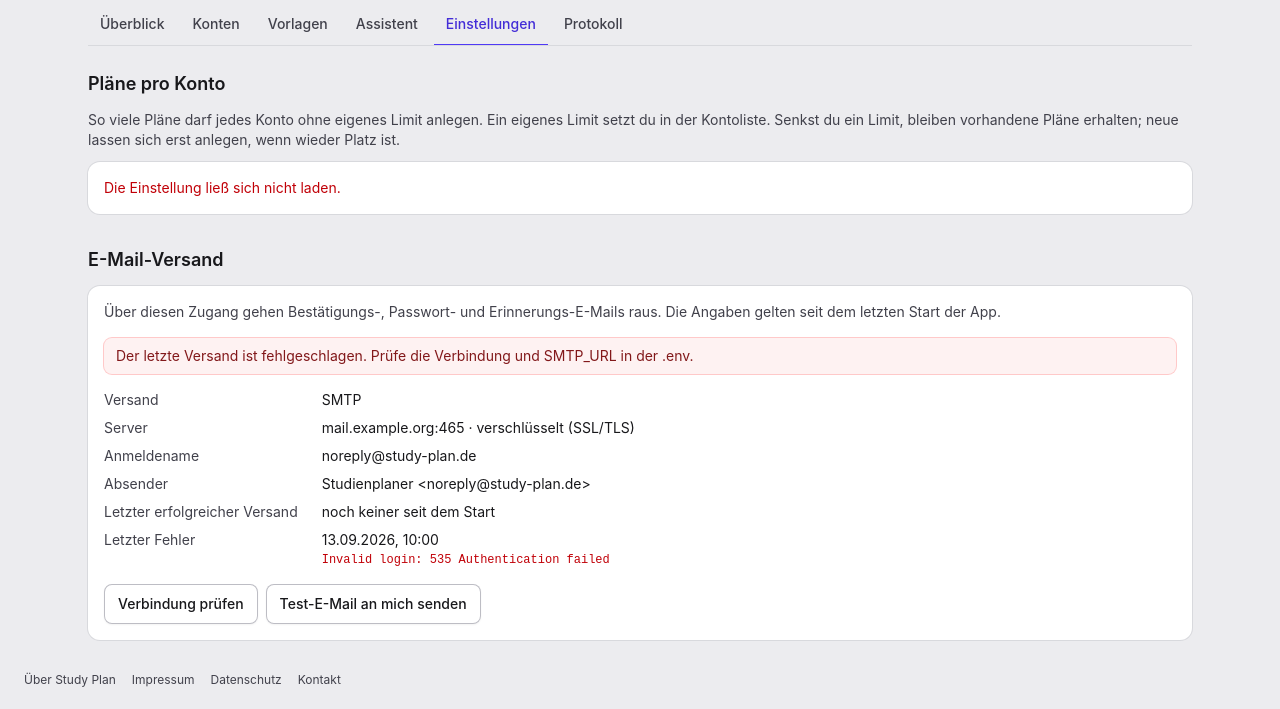
Test: mail delivery in the admin dashboard › shows the last failure, checks the connection and sends a test e-mail
The width and height of the screenshot is (1280, 709).
(page scrolled)
Check: the text "mail.example.org:465 · verschlüsselt (SSL/TLS)" is shown, box [322, 419, 635, 436]
Check: the text "Der letzte Versand ist fehlgeschlagen" is shown, box [116, 347, 694, 364]
Click the button "Verbindung prüfen" at (181, 604), box [104, 584, 258, 624]
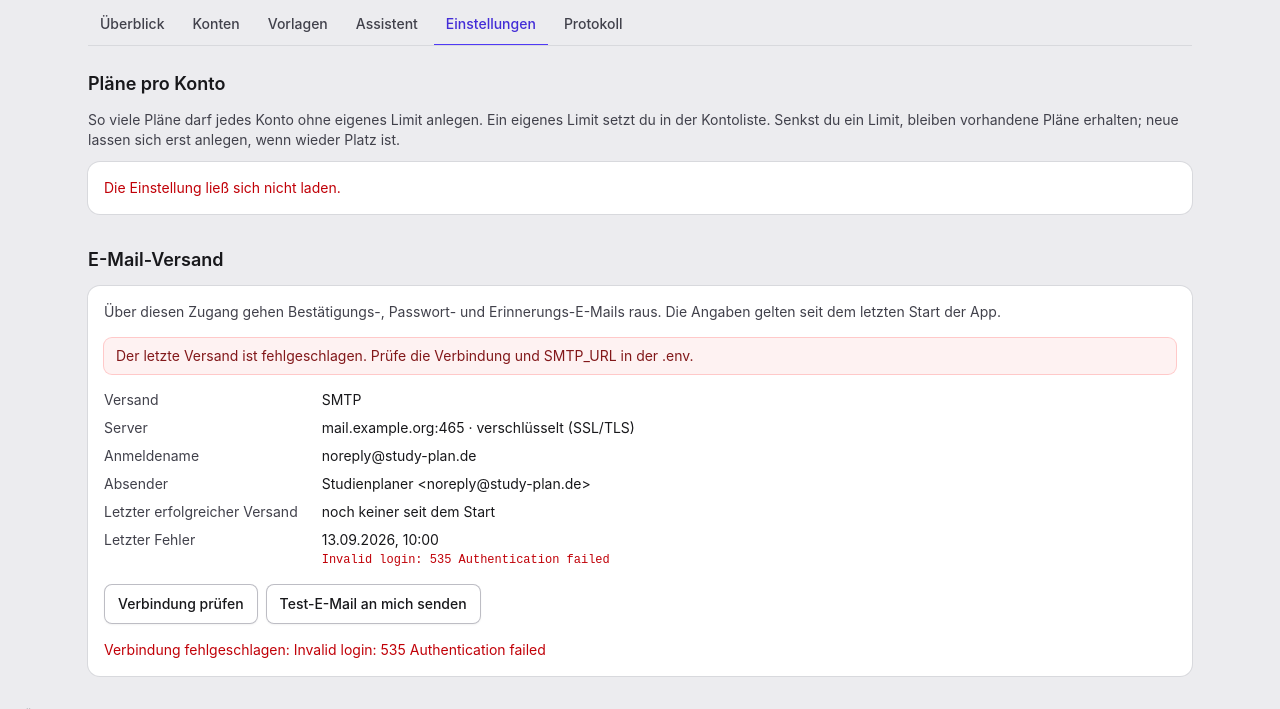
Check: the text "Verbindung fehlgeschlagen: Invalid login: 535 Authentication failed" is shown, box [104, 641, 546, 658]
Click the button "Test-E-Mail an mich senden" at (373, 604), box [266, 584, 481, 624]
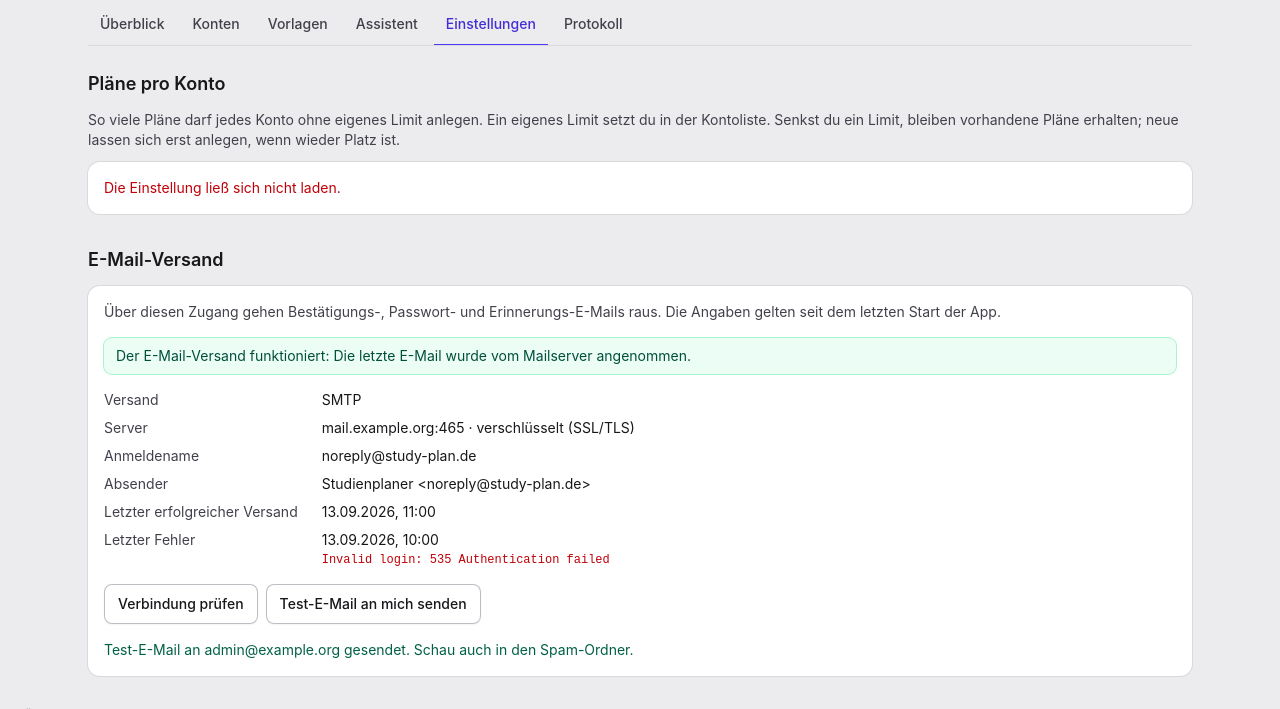
Check: the text "Test-E-Mail an admin@example.org gesendet. Schau auch in den Spam-Ordner." is shown, box [104, 641, 634, 658]
Check: the text "Der E-Mail-Versand funktioniert" is shown, box [116, 347, 691, 364]
